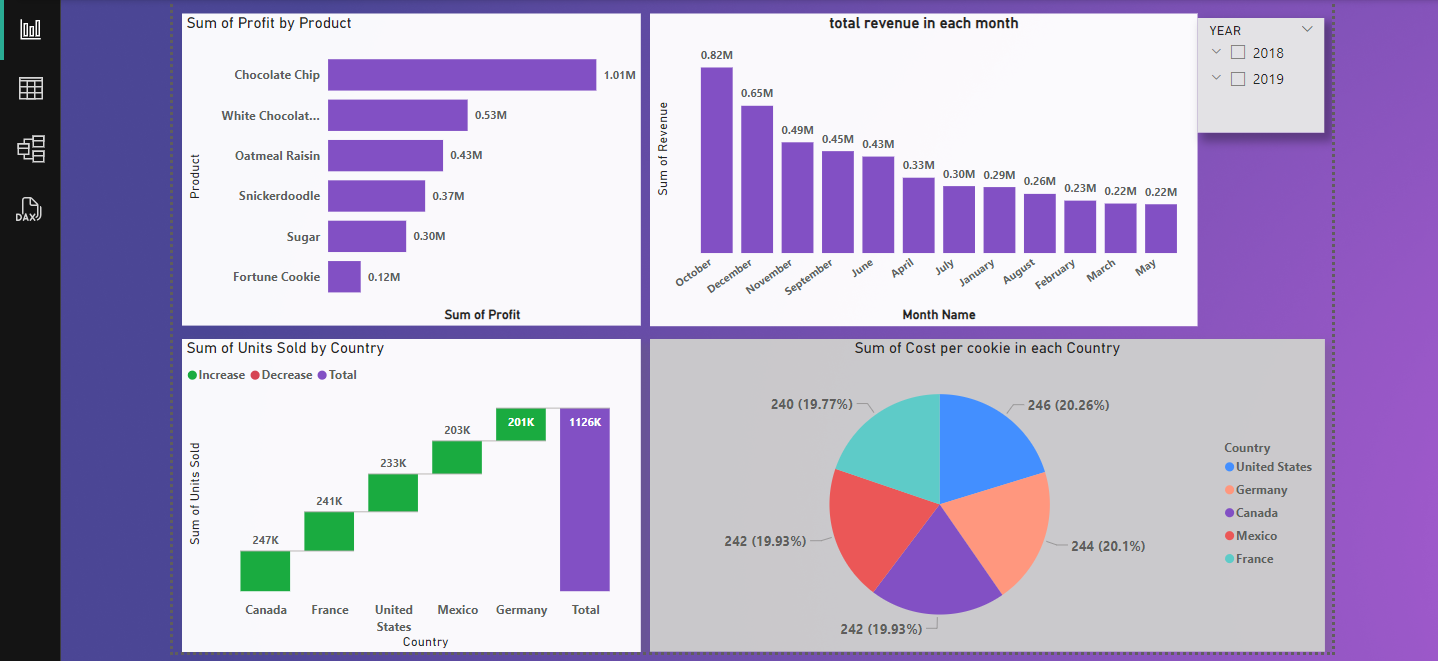

The dashboard page shown, as its layout file describes it:
{"tool":"powerbi","page":{"name":"Insight 2","canvas":[1280,720],"ordinal":1},"visuals":[{"type":"barChart","fields":{"Category":["Cookie Sales.Product"],"Y":["Sum(Cookie Sales.Profit)"]},"box":[9.9,14.9,506.9,344.5],"z":0},{"type":"waterfallChart","fields":{"Category":["Cookie Sales.Country"],"Y":["Sum(Cookie Sales.Units Sold)"]},"box":[9.9,374.4,506.9,346.2],"z":1},{"type":"clusteredColumnChart","title":"total revenue in each month","fields":{"Y":["Sum(Cookie Sales.Revenue)"],"Category":["Cookie Sales.Month Name"]},"box":[526.4,15.4,605,345.2],"z":2},{"type":"slicer","fields":{"Values":["Cookie Sales.Year","Cookie Sales.Month Name"]},"box":[1131.3,20.5,140.1,126.5],"z":3},{"type":"pieChart","title":"Sum of Cost per cookie in each Country","fields":{"Y":["Sum(Cookie Sales.Cost per cookie)"],"Category":["Cookie Sales.Country"]},"box":[526.4,374.3,745.1,345.2],"z":4}]}

Visuals, with their boxes in screenshot pixels (x1, y1, x2, y2):
barChart - Cookie Sales.Product x Sum(Cookie Sales.Profit): 178,10,638,323
waterfallChart - Cookie Sales.Country x Sum(Cookie Sales.Units Sold): 178,336,638,650
"total revenue in each month" clusteredColumnChart: 646,10,1196,324
slicer - Cookie Sales.Year x Cookie Sales.Month Name: 1196,15,1323,130
"Sum of Cost per cookie in each Country" pieChart: 646,336,1323,649
